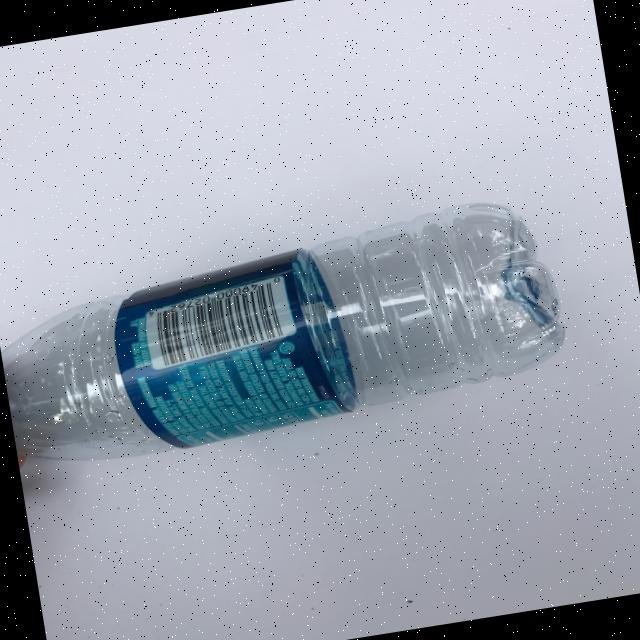plastic: (0, 190, 575, 476)
